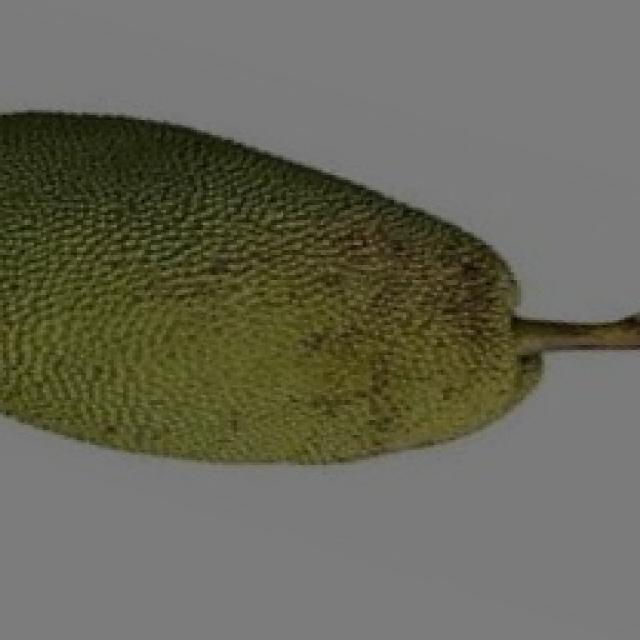Fruit: (0, 90, 403, 488), (219, 115, 566, 490)
